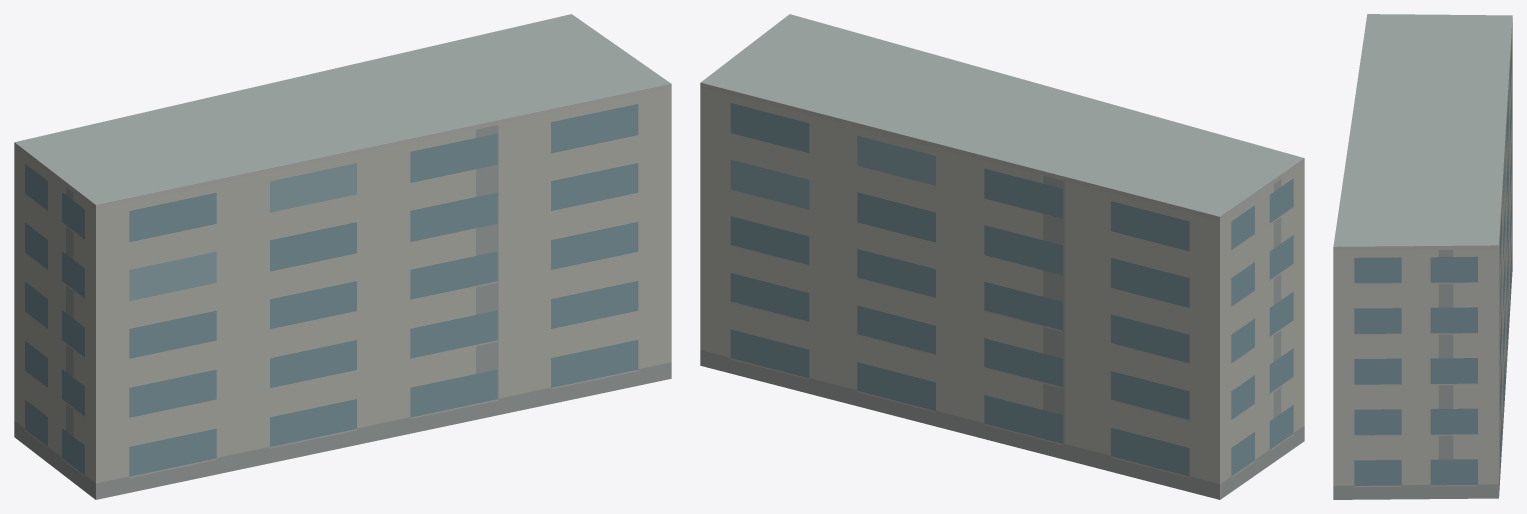
File: residential-42383418-2b0f-439e-b247-fc3bc6995127.glb
3 views of the same model, side by side, from view 1: azimuth 30°, elevation 25°; view 2: azimuth 150°, elevation 25°; view 3: azimuth 270°, elevation 25° (orthographic). The views are drawn at different scales.
Parts seen in each view (by area): view 1: residential-42383418-2b0f-439e-b247-fc3bc6995127.tmp; view 2: residential-42383418-2b0f-439e-b247-fc3bc6995127.tmp; view 3: residential-42383418-2b0f-439e-b247-fc3bc6995127.tmp.
Part boxes in pixels (box(x1,y1,x2,y2)): residential-42383418-2b0f-439e-b247-fc3bc6995127.tmp: box(14, 14, 671, 499); residential-42383418-2b0f-439e-b247-fc3bc6995127.tmp: box(700, 14, 1304, 499); residential-42383418-2b0f-439e-b247-fc3bc6995127.tmp: box(1333, 14, 1512, 499).
Size of the model in its own units: 30.1 by 15.25 by 9.8.
